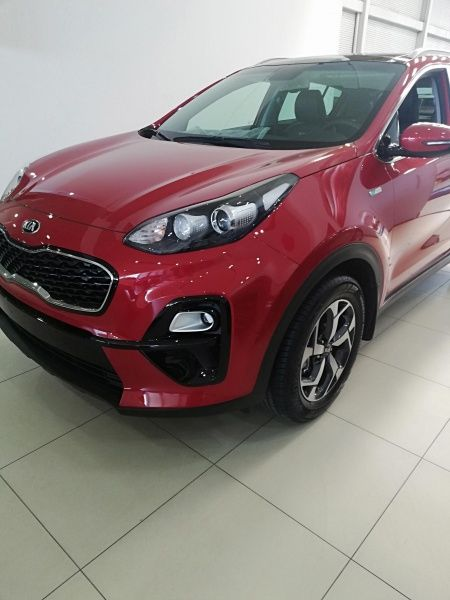Camioneta: (1, 44, 435, 436)
